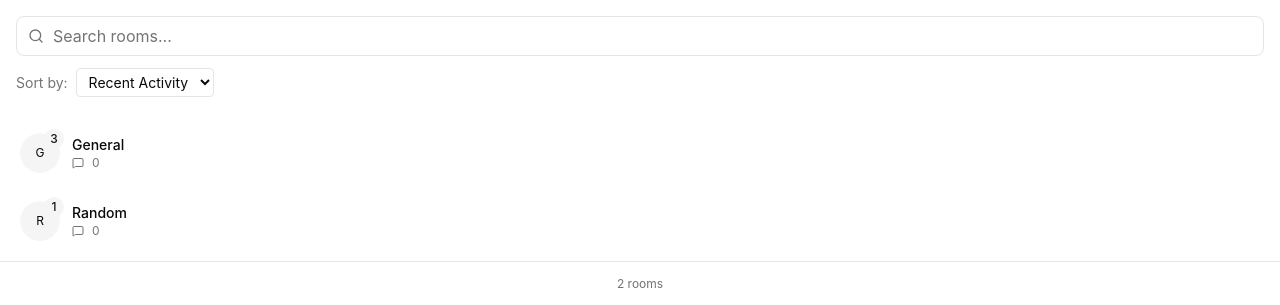
Test: LazyRoomList › filters rooms by search query
The width and height of the screenshot is (1280, 305).
Type "General" into the field with placeholder "Search rooms..." at (640, 36), box [16, 16, 1264, 56]
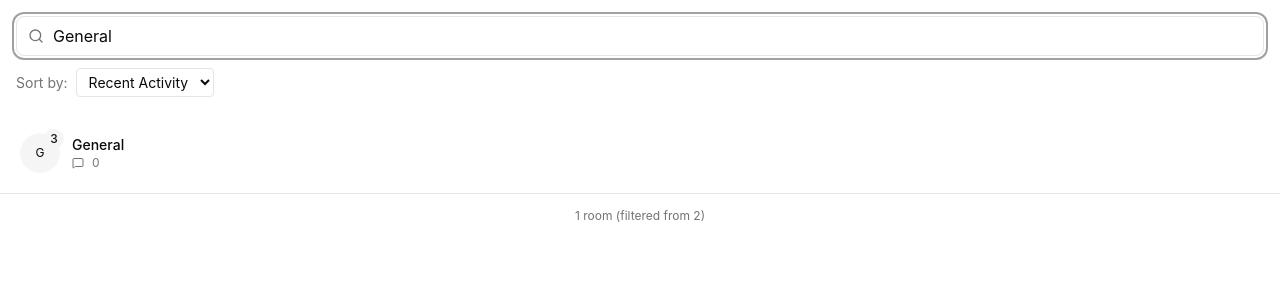
Expected: the heading "General" is shown, [72, 135, 124, 155]
Expected: the heading "Random" is gone
